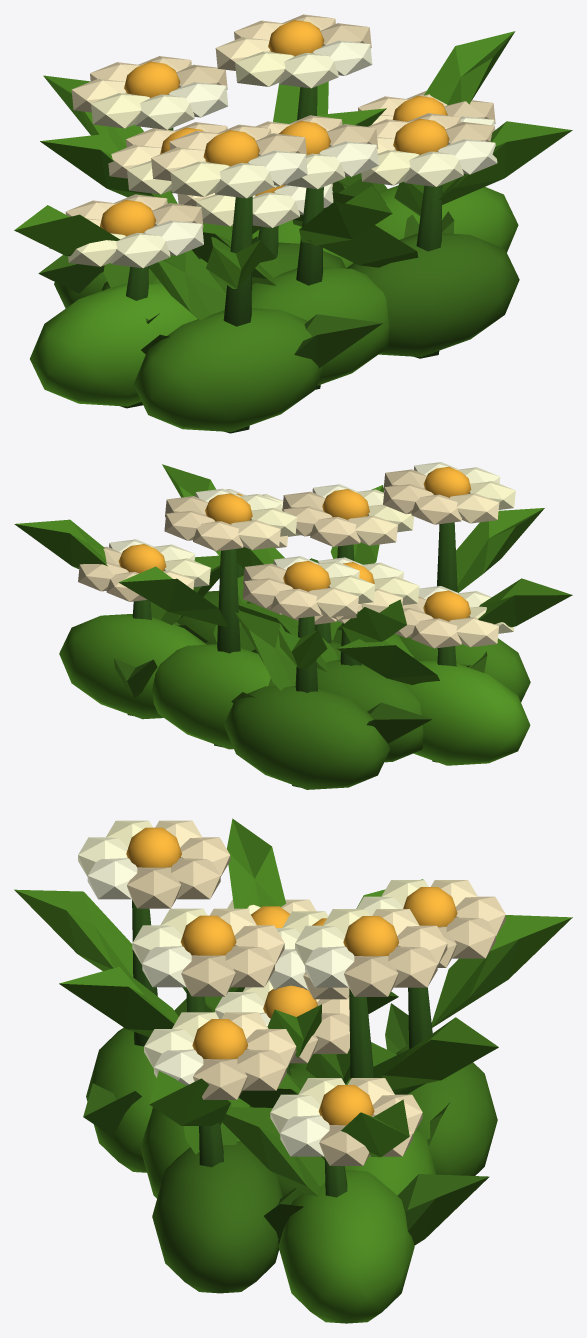
File: daisy.glb
3 renders of one model, top to bottom at view 1: azimuth 30°, elevation 25°; view 2: azimuth 150°, elevation 25°; view 3: azimuth 270°, elevation 25°, orthographic. The views are drawn at different scales.
Parts seen in each view (by area): view 1: daisy; view 2: daisy; view 3: daisy.
Boxes of the visible parts, x1,y1,x2,y2 form: daisy: [14, 14, 572, 433]; daisy: [14, 462, 572, 789]; daisy: [14, 818, 572, 1323].
Bounding box in the file's own units: 0.97 × 0.47 × 0.72.
